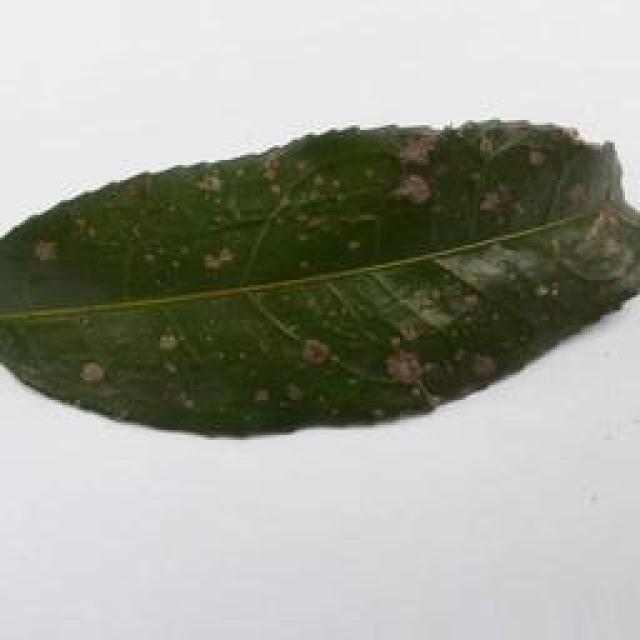Algal Leaf Spot: (0, 108, 638, 452)
